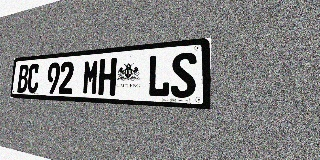2: (59, 61, 74, 94)
9: (46, 62, 61, 94)
B: (17, 64, 29, 93)
C: (27, 64, 40, 93)
H: (98, 58, 117, 96)
L: (147, 54, 171, 97)
M: (82, 59, 100, 95)
S: (170, 52, 197, 98)
